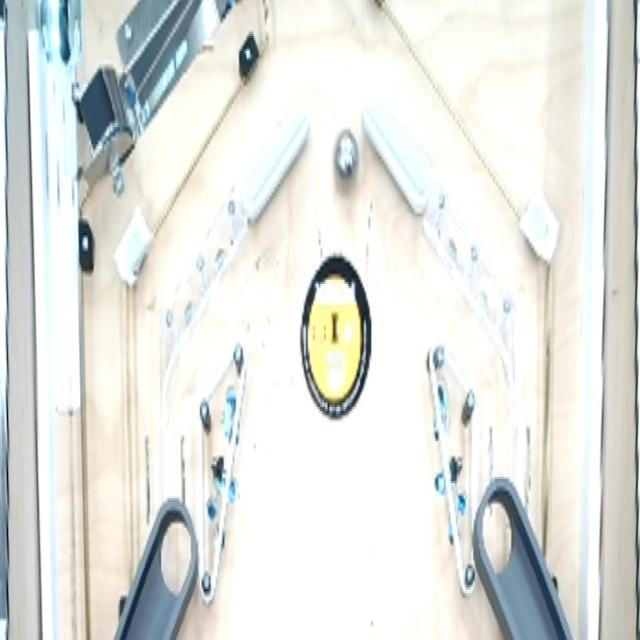ball: (332, 127, 361, 194)
flipper-left: (362, 103, 436, 225)
flipper-right: (241, 113, 313, 235)
